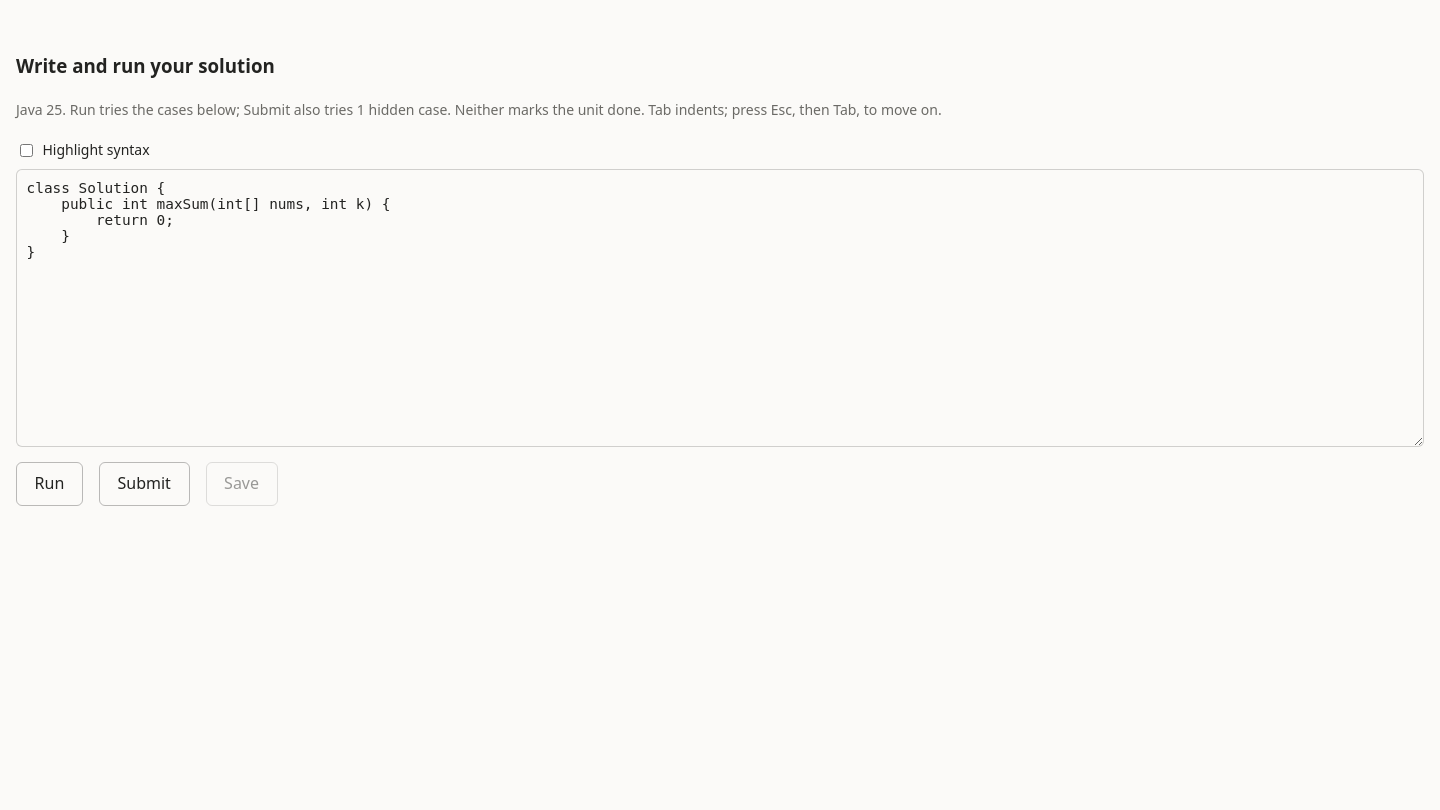
CodeRunner › submits every case and shows hidden ones only as a count, then remembers the submit
Click the button "Submit" at (144, 484), box top-left (99, 462), bottom-right (190, 506)
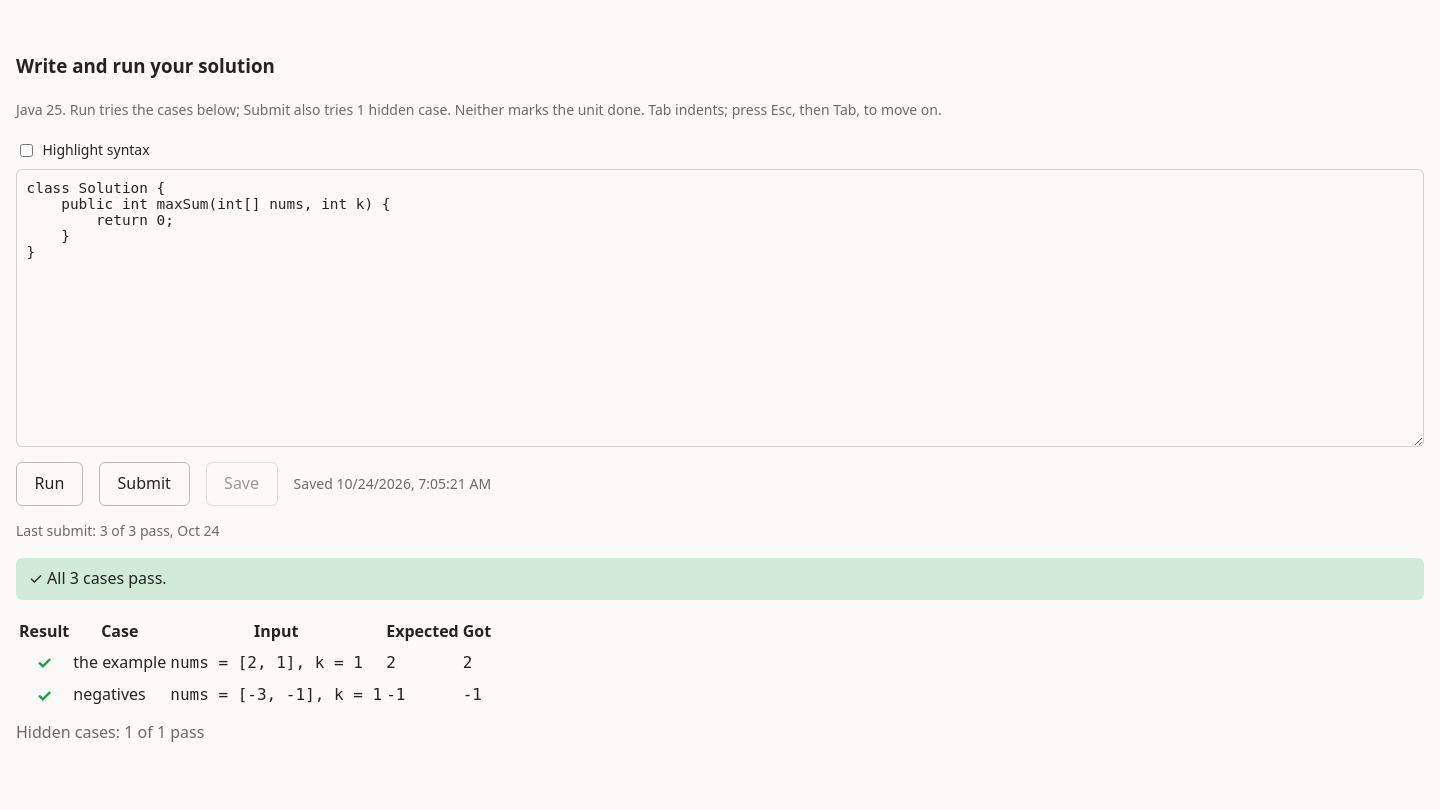
Now the text "Hidden cases: 1 of 1 pass" is shown, box top-left (16, 722), bottom-right (204, 744)
Now the text "Last submit: 3 of 3 pass, Oct 24" is shown, box top-left (16, 521), bottom-right (220, 540)
Now the number of rows is 3, box top-left (18, 618), bottom-right (492, 645); top-left (18, 647), bottom-right (492, 678); top-left (18, 680), bottom-right (492, 710)
